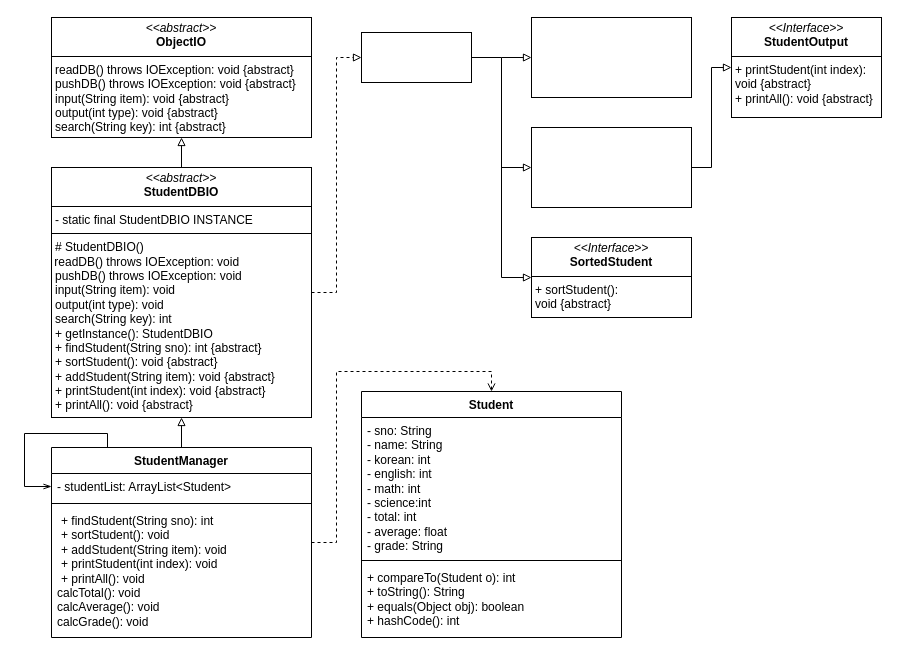
This 899x658 diagram has some shape labels left out. The shapes that lost their labels are listed below. From the top down, each one's centre as x and y in pixels, then its label:
At [416,57]: "«Interface» StudentIO".
At [611,57]: "<<Interface>> StudentInput + addStudent(String item): void {abstract}".
At [611,167]: "<<Interface>> SearchStudent + findStudent(String sno): int {abstract}".
